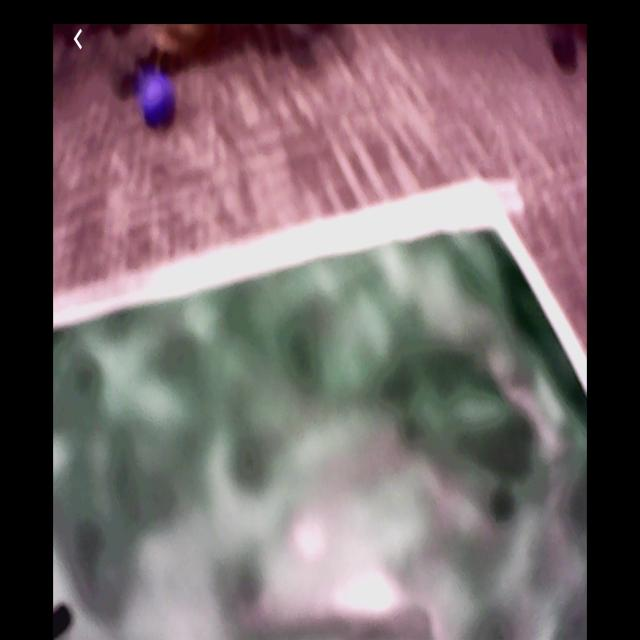ball: (142, 71, 176, 130)
